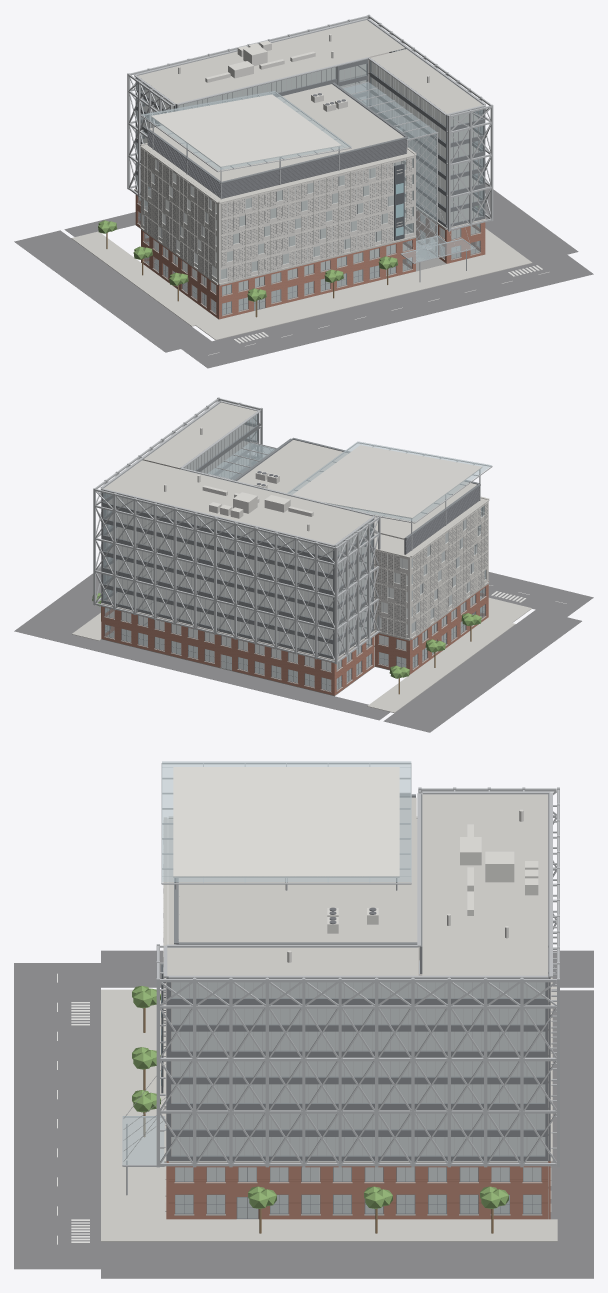
Rendered from clay-braced-frame-hospital-clay-v001.glb.
The picture shows the model from 3 angles, top to bottom: view 1: azimuth 30°, elevation 25°; view 2: azimuth 150°, elevation 25°; view 3: azimuth 270°, elevation 25°; orthographic projection. The views are drawn at different scales.
Parts seen in each view (by area): view 1: CLAY_PALE, CLAY_ASPHALT, CLAY_GLASS, CLAY_MEMBRANE, CLAY_STEEL, CLAY_CONCRETE, CLAY_FLOOR, CLAY_TRIM, CLAY_WALL, CLAY_PERF, CLAY_HARDWARE, CLAY_LOUVRE (+4 smaller); view 2: CLAY_GLASS, CLAY_STEEL, CLAY_FLOOR, CLAY_PALE, CLAY_ASPHALT, CLAY_MEMBRANE, CLAY_TRIM, CLAY_WALL, CLAY_CONCRETE, CLAY_PERF, CLAY_FOUNDATION, CLAY_HARDWARE (+3 smaller); view 3: CLAY_ASPHALT, CLAY_GLASS, CLAY_MEMBRANE, CLAY_FLOOR, CLAY_STEEL, CLAY_PALE, CLAY_CONCRETE, CLAY_TRIM, CLAY_WALL, CLAY_FOUNDATION, CLAY_PLANTING, CLAY_STONE (+1 smaller).
Boxes of the visible parts, x1=… form: CLAY_PALE: x1=140, y1=34, x2=429, y2=283; CLAY_ASPHALT: x1=14, y1=184, x2=593, y2=368; CLAY_GLASS: x1=137, y1=48, x2=483, y2=314; CLAY_MEMBRANE: x1=138, y1=20, x2=482, y2=201; CLAY_STEEL: x1=127, y1=14, x2=493, y2=282; CLAY_CONCRETE: x1=71, y1=127, x2=532, y2=340; CLAY_FLOOR: x1=141, y1=52, x2=479, y2=294; CLAY_TRIM: x1=135, y1=19, x2=485, y2=315; CLAY_WALL: x1=135, y1=195, x2=485, y2=319; CLAY_PERF: x1=141, y1=149, x2=411, y2=280; CLAY_HARDWARE: x1=143, y1=93, x2=406, y2=263; CLAY_LOUVRE: x1=148, y1=83, x2=406, y2=198; CLAY_GLASS: x1=103, y1=414, x2=491, y2=690; CLAY_STEEL: x1=93, y1=397, x2=492, y2=664; CLAY_FLOOR: x1=106, y1=424, x2=482, y2=670; CLAY_PALE: x1=164, y1=427, x2=488, y2=638; CLAY_ASPHALT: x1=14, y1=568, x2=593, y2=732; CLAY_MEMBRANE: x1=104, y1=402, x2=485, y2=556; CLAY_TRIM: x1=101, y1=402, x2=486, y2=691; CLAY_WALL: x1=101, y1=581, x2=488, y2=695; CLAY_CONCRETE: x1=72, y1=496, x2=531, y2=712; CLAY_PERF: x1=376, y1=504, x2=487, y2=636; CLAY_FOUNDATION: x1=101, y1=614, x2=482, y2=696; CLAY_HARDWARE: x1=257, y1=471, x2=485, y2=616; CLAY_ASPHALT: x1=14, y1=950, x2=593, y2=1278; CLAY_GLASS: x1=122, y1=761, x2=545, y2=1218; CLAY_MEMBRANE: x1=167, y1=794, x2=547, y2=976; CLAY_FLOOR: x1=171, y1=794, x2=548, y2=1188; CLAY_STEEL: x1=122, y1=762, x2=559, y2=1195; CLAY_PALE: x1=161, y1=767, x2=538, y2=1086; CLAY_CONCRETE: x1=101, y1=816, x2=557, y2=1241; CLAY_TRIM: x1=166, y1=794, x2=550, y2=1218; CLAY_WALL: x1=166, y1=1161, x2=550, y2=1219; CLAY_FOUNDATION: x1=175, y1=1189, x2=548, y2=1219; CLAY_PLANTING: x1=132, y1=986, x2=508, y2=1208; CLAY_STONE: x1=165, y1=1109, x2=551, y2=1215.
Size of the model in its own units: 107 by 39.8 by 80.
